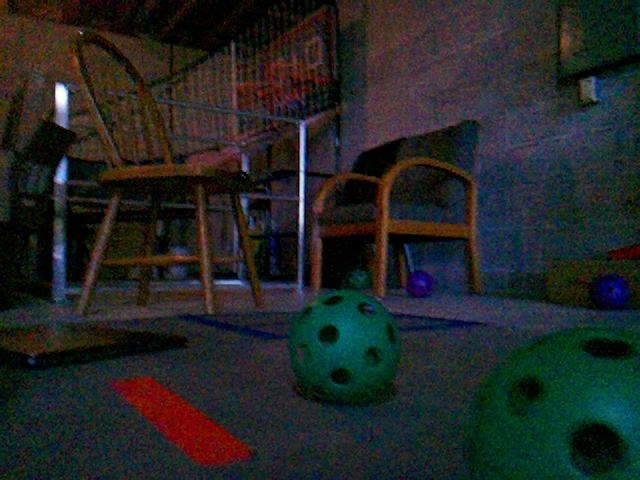Green: (464, 326, 640, 478), (286, 290, 403, 403), (344, 267, 372, 289)
Purple: (588, 272, 632, 310), (405, 269, 434, 297)
